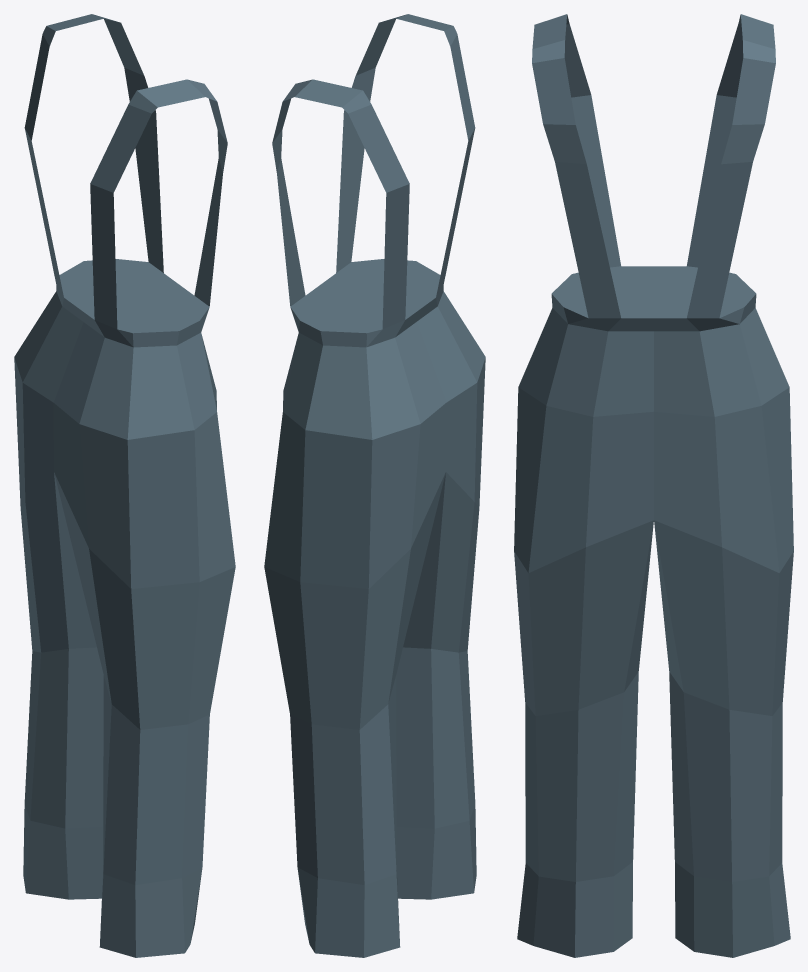
The model's file is SM_Worker_Overalls.fbx.
The picture shows the model from 3 angles, left to right: view 1: azimuth 30°, elevation 25°; view 2: azimuth 150°, elevation 25°; view 3: azimuth 270°, elevation 25°; orthographic projection. The views are drawn at different scales.
Parts seen in each view (by area): view 1: Overalls; view 2: Overalls; view 3: Overalls.
Part boxes in pixels (x1=…): Overalls: x1=14, y1=14, x2=235, y2=957; Overalls: x1=264, y1=14, x2=485, y2=957; Overalls: x1=514, y1=14, x2=793, y2=957.
Bounding box in the file's own units: 21.76 × 127 × 35.42.
